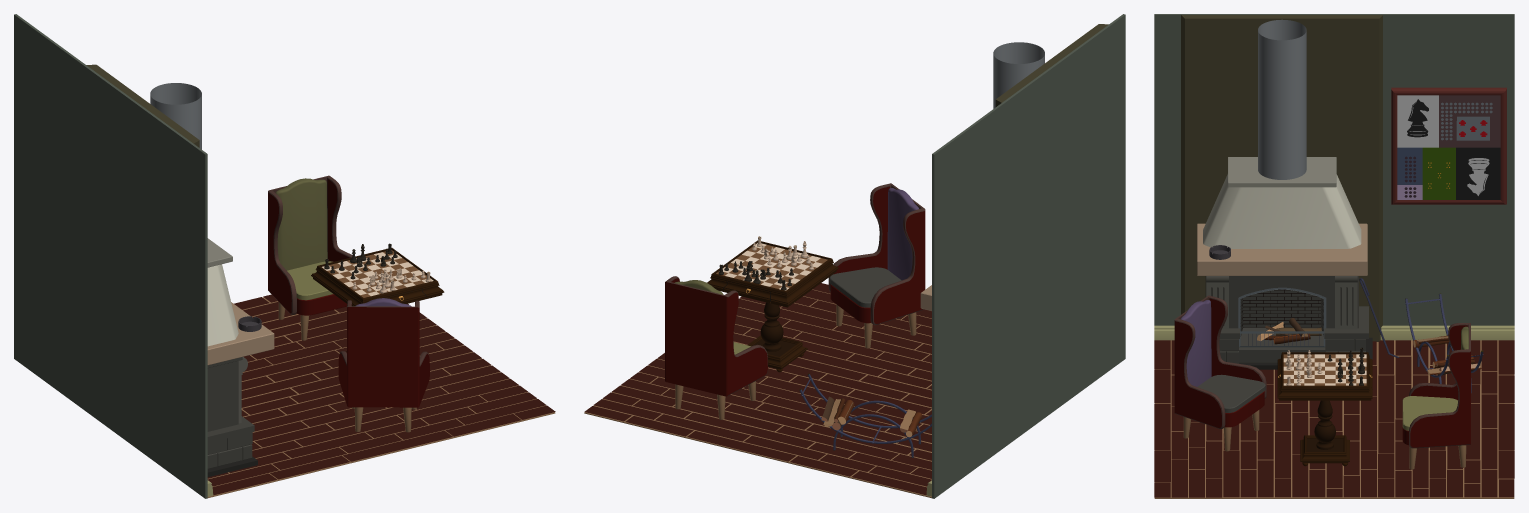
Rendered from cozy_room_with_chess_table_xyz_school_homework.glb.
The picture shows the model from 3 angles, left to right: view 1: azimuth 30°, elevation 25°; view 2: azimuth 150°, elevation 25°; view 3: azimuth 270°, elevation 25°; orthographic projection. The views are drawn at different scales.
Visible parts, largest first — view 1: stena_18, parket_143, chair1_134, pol_144, spinka2_139, kamin_129, stol_poverhnost_28, truba_105, chair2_140, Cube.004_107, Cube.003_108, kletkiblack_25 (+5 smaller); view 2: stena_18, parket_143, chair2_140, pol_144, chair1_134, stol_poverhnost_28, truba_105, spinka1_133, sidenie1_132, kletkiwhite_26, kletkiblack_25, chairkn1_131 (+5 smaller); view 3: stena_18, parket_143, stena.001_145, Cube.004_107, kamin_129, truba_105, pol_144, Cube.003_108, chair2_140, chair1_134, rama_17, Cube.005_106 (+26 smaller).
Part boxes in pixels (box(x1,y1,x2,y2)): stena_18: box(14, 14, 207, 498); parket_143: box(207, 294, 555, 495); chair1_134: box(338, 304, 429, 407); pol_144: box(207, 297, 555, 497); spinka2_139: box(275, 178, 327, 270); kamin_129: box(207, 361, 254, 468); stol_poverhnost_28: box(311, 247, 444, 306); truba_105: box(150, 83, 201, 149); chair2_140: box(268, 179, 349, 313); Cube.004_107: box(207, 264, 238, 346); Cube.003_108: box(207, 302, 274, 365); kletkiblack_25: box(327, 250, 426, 297); stena_18: box(932, 14, 1125, 498); parket_143: box(584, 283, 931, 495); chair2_140: box(665, 278, 767, 396); pol_144: box(584, 289, 931, 498); chair1_134: box(833, 186, 925, 323); stol_poverhnost_28: box(707, 240, 838, 307); truba_105: box(993, 42, 1044, 108); spinka1_133: box(887, 188, 918, 280); sidenie1_132: box(829, 267, 901, 307); kletkiwhite_26: box(722, 243, 822, 290); kletkiblack_25: box(716, 245, 827, 288); chairkn1_131: box(828, 183, 925, 325); stena_18: box(1154, 14, 1514, 325); parket_143: box(1154, 340, 1514, 497); stena.001_145: box(1181, 15, 1382, 341); Cube.004_107: box(1203, 174, 1361, 248); kamin_129: box(1205, 276, 1368, 363); truba_105: box(1258, 19, 1306, 179); pol_144: box(1154, 340, 1514, 498); Cube.003_108: box(1197, 223, 1367, 275); chair2_140: box(1410, 325, 1470, 447); chair1_134: box(1174, 298, 1262, 428); rama_17: box(1391, 87, 1506, 204); Cube.005_106: box(1228, 157, 1336, 187).
Bounding box in the file's own units: 56.93 × 53.73 × 53.86.
